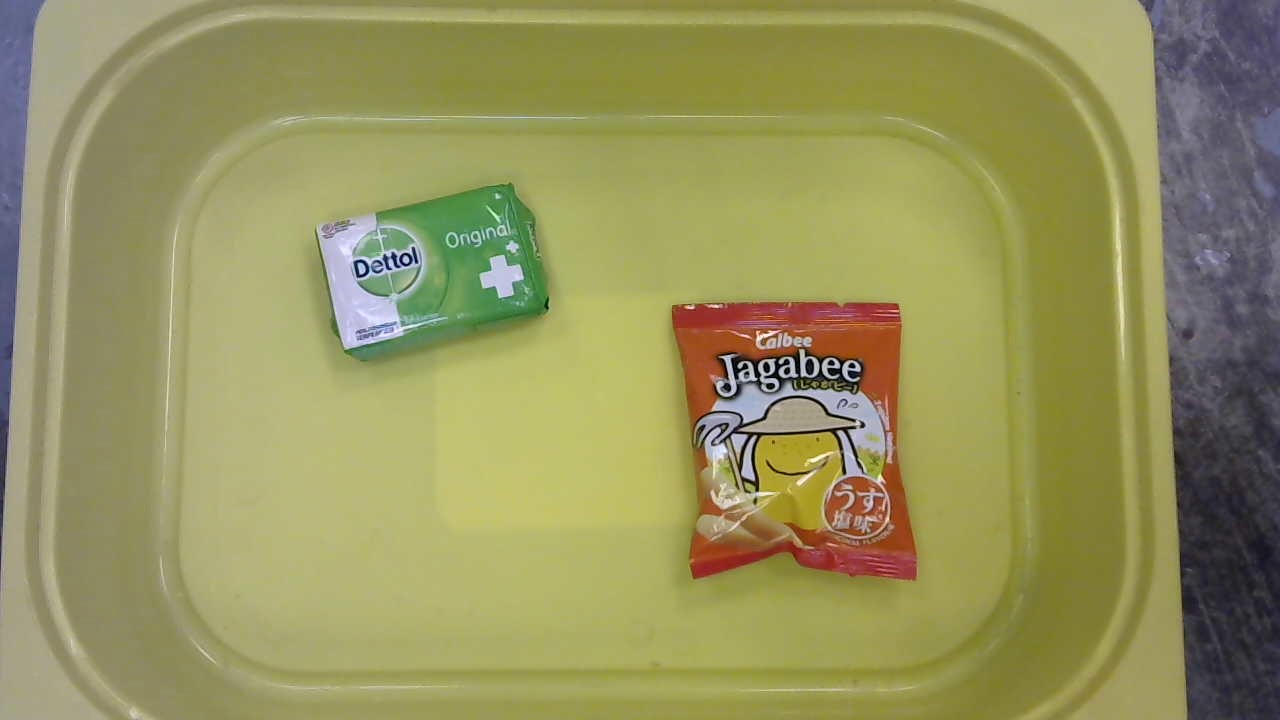Dettol: (311, 181, 557, 373)
JagabeeFarmer: (666, 298, 925, 590)
